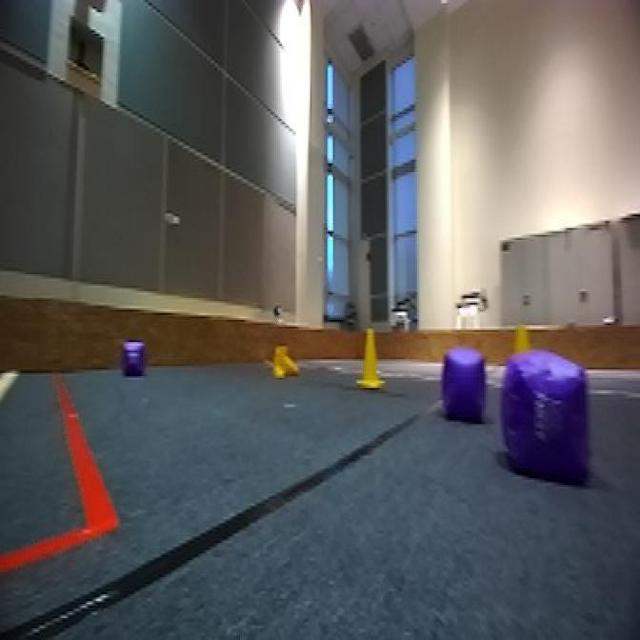frc_cone: (354, 327, 384, 391), (271, 344, 299, 378)
frc_cube: (498, 349, 594, 485), (438, 342, 492, 419), (119, 339, 148, 383)
